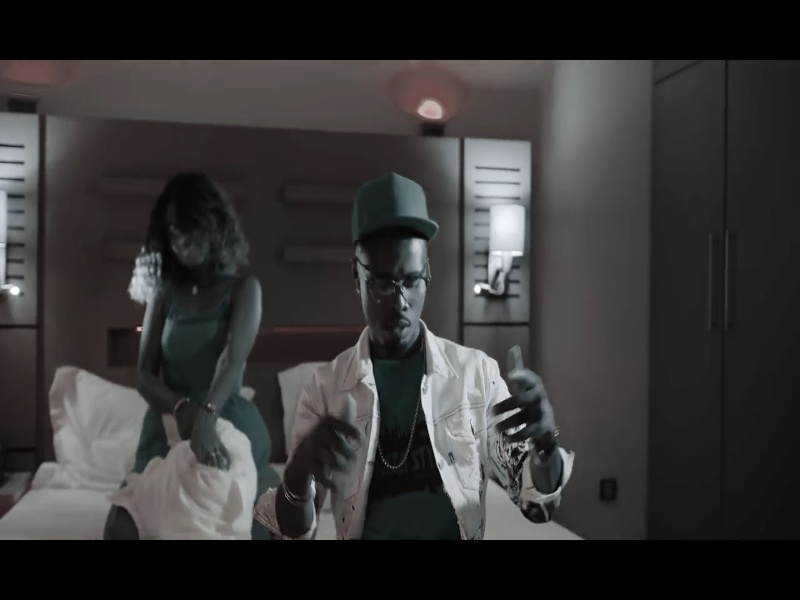TsisyArotava: (336, 185, 461, 364)
